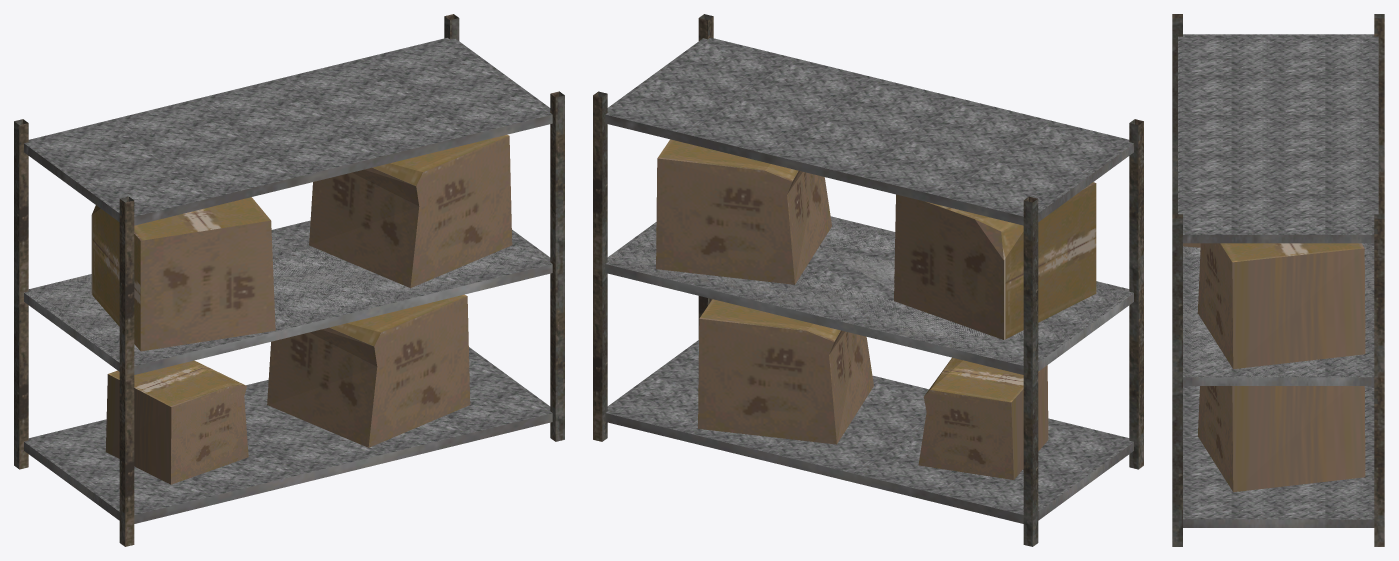
File: cj_df_unit_2.obj
3 views of the same model, side by side, from view 1: azimuth 30°, elevation 25°; view 2: azimuth 150°, elevation 25°; view 3: azimuth 270°, elevation 25° (orthographic). The views are drawn at different scales.
Visible parts, largest first — view 1: CJ_DF_UNIT_2; view 2: CJ_DF_UNIT_2; view 3: CJ_DF_UNIT_2.
Boxes of the visible parts, box(x1,y1,x2,y2) form: CJ_DF_UNIT_2: box(14, 14, 564, 546); CJ_DF_UNIT_2: box(593, 14, 1143, 546); CJ_DF_UNIT_2: box(1172, 14, 1384, 546).
Size of the model in its own units: 5.17 by 3.87 by 2.26.
Materials: 4 (4 with a texture image).
